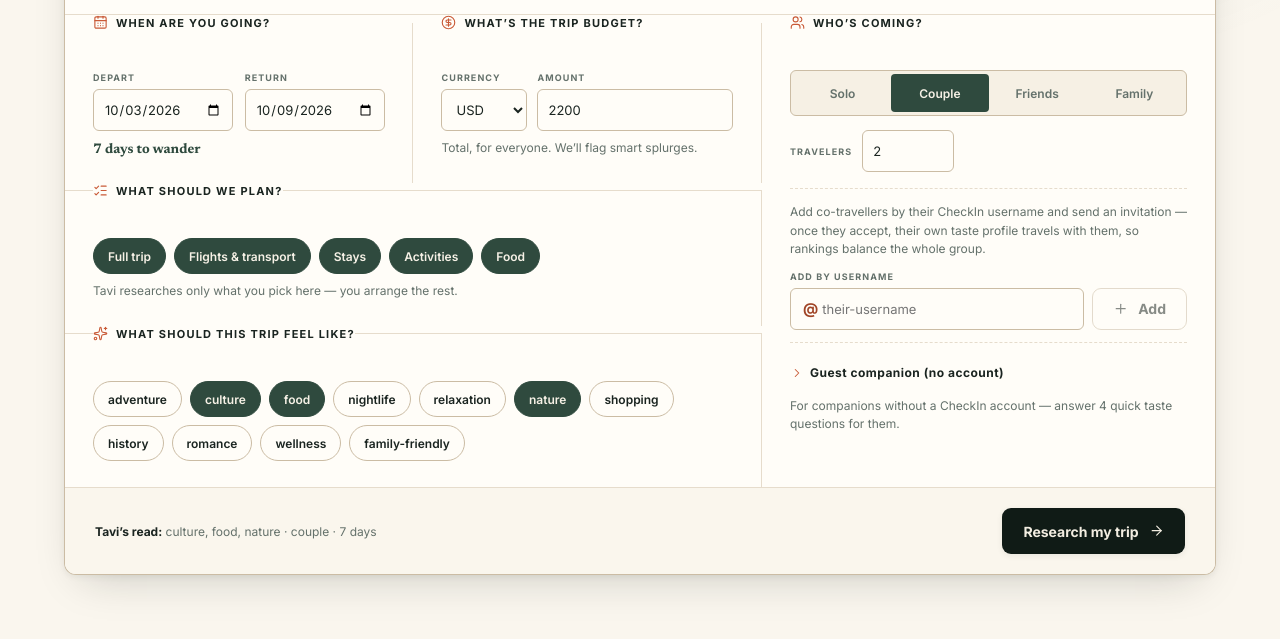
Scenario: keeps the guest companion flow: intake gating with Profile now
(page scrolled)
Click the button "Guest companion (no account)".
click(897, 373)  # box [790,355,1004,391]
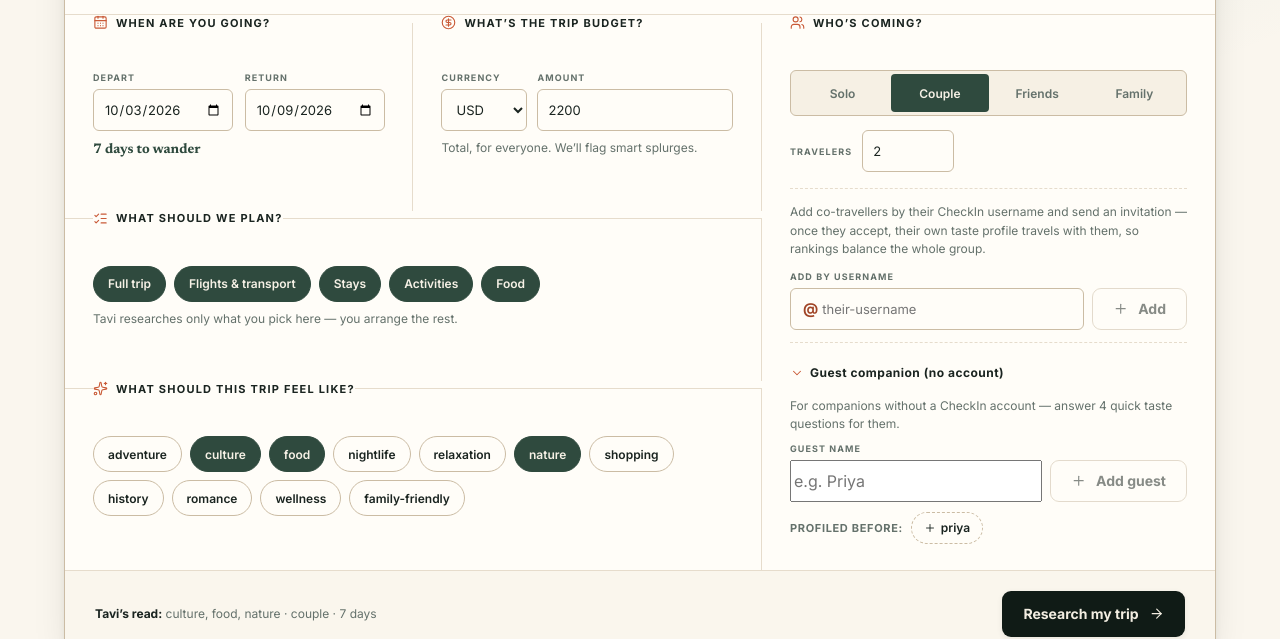
Type "Priya!" into the field labelled "Guest name".
click(916, 481); type("Priya!")  # box [790,460,1042,502]
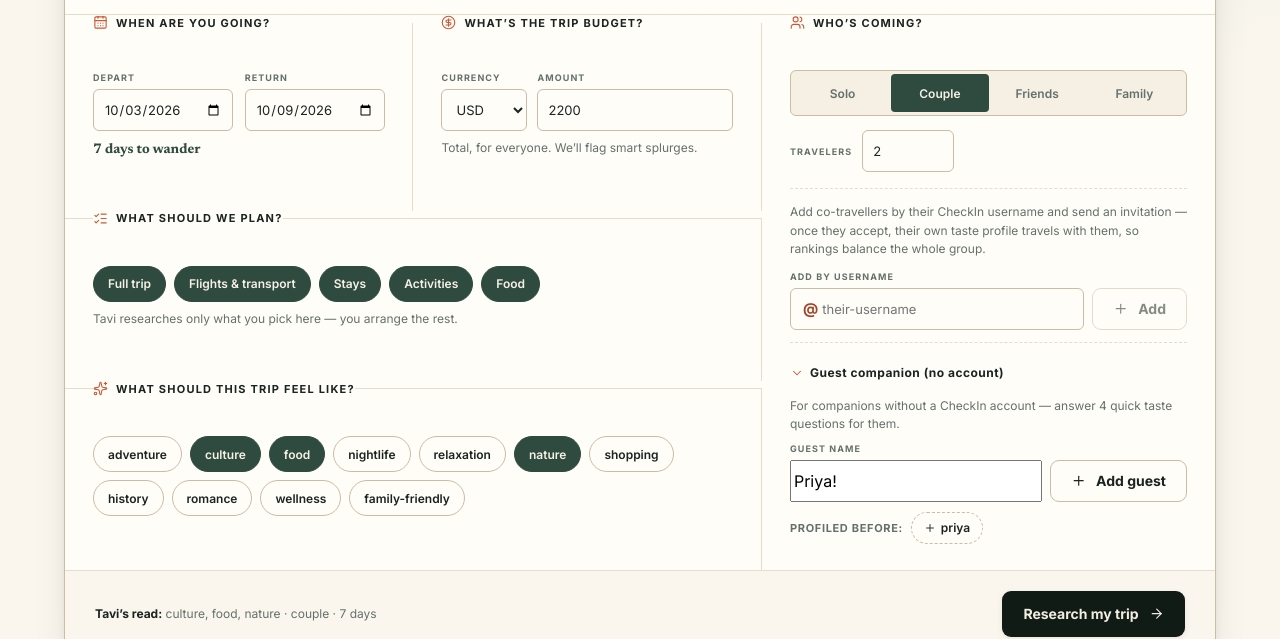
Click the button "Add guest".
click(1118, 481)  # box [1050,460,1187,502]
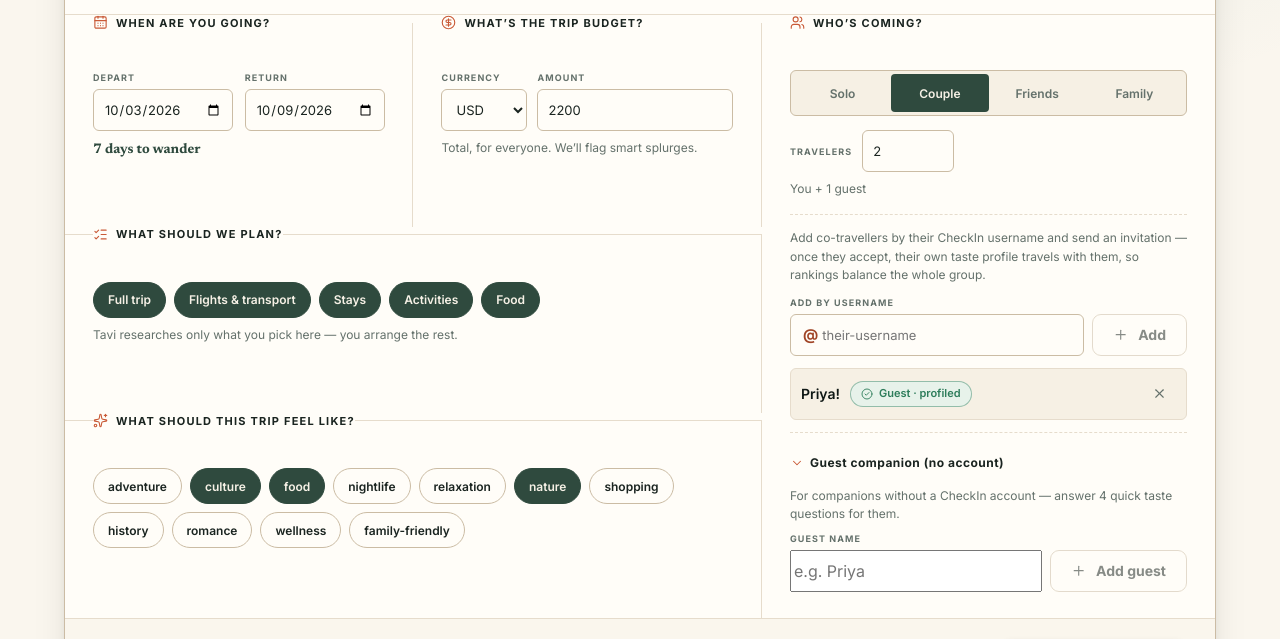
Expected: the text "waiting on taste profiles" is not shown
Now the text "Guest · profiled" is shown, box [850,381,972,407]
Type "Maya" into the field labelled "Guest name".
click(916, 571); type("Maya")  # box [790,550,1042,592]
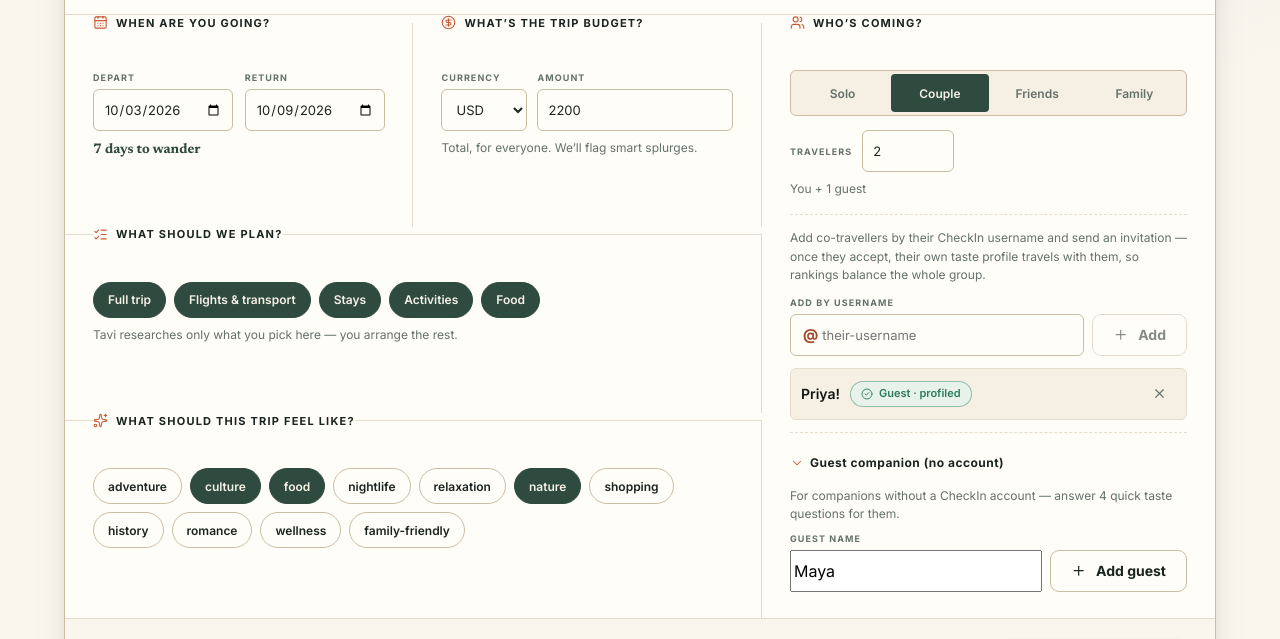
Click the button "Add guest".
click(1118, 571)  # box [1050,550,1187,592]
(page scrolled)
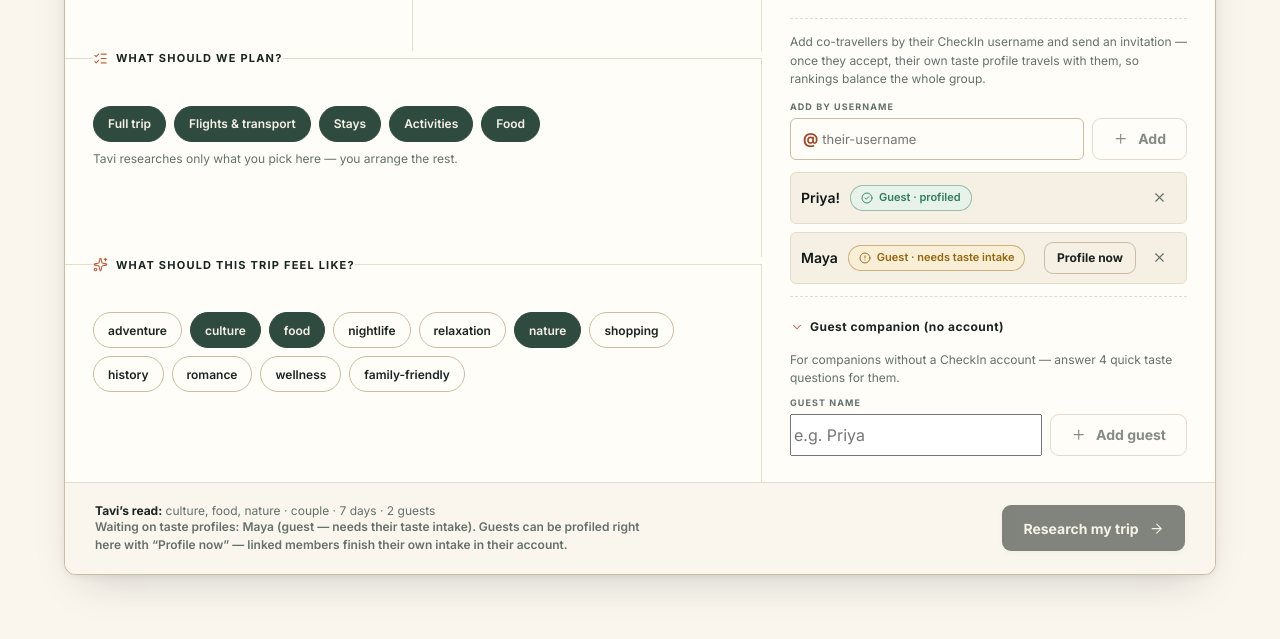
Now the text "Guest · needs taste intake" is shown, box [848,245,1026,271]
Now the button "Profile now" is shown, box [1044,242,1136,274]
Now the button "Research my trip" is disabled, box [1002,506,1185,552]
